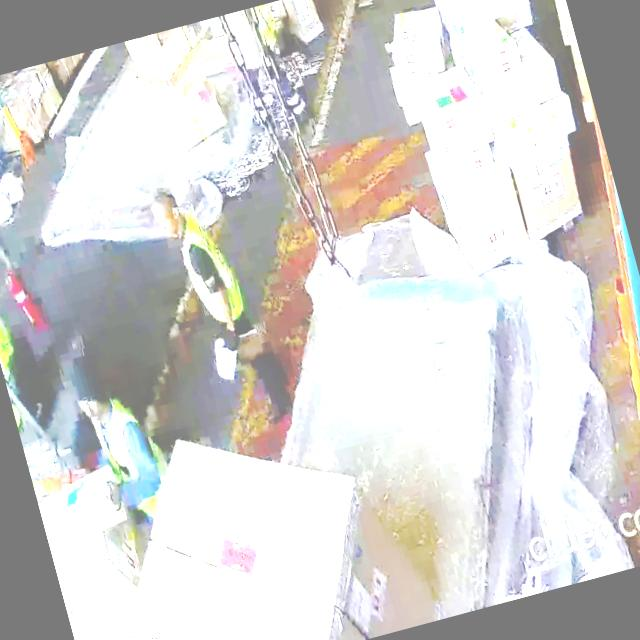Box: (433, 162, 532, 264), (508, 146, 588, 238), (154, 72, 236, 152), (418, 66, 490, 136), (380, 1, 445, 78), (491, 64, 568, 118), (500, 102, 578, 152), (432, 0, 531, 37), (458, 19, 514, 75)
